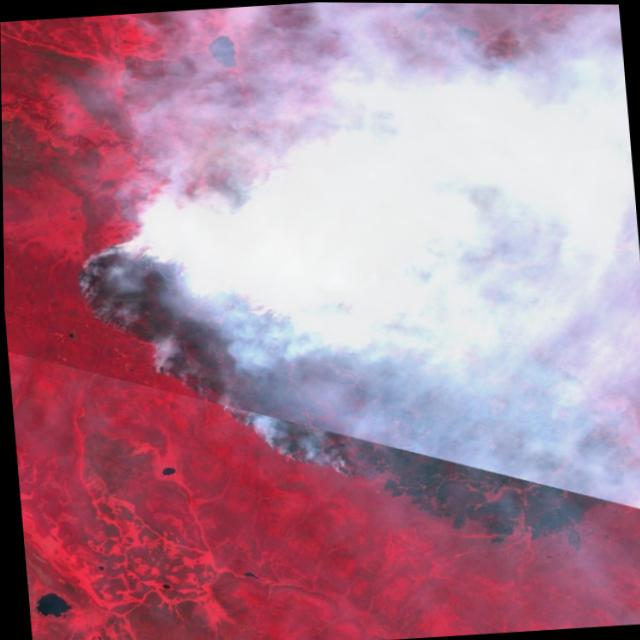fire: (61, 195, 593, 502)
